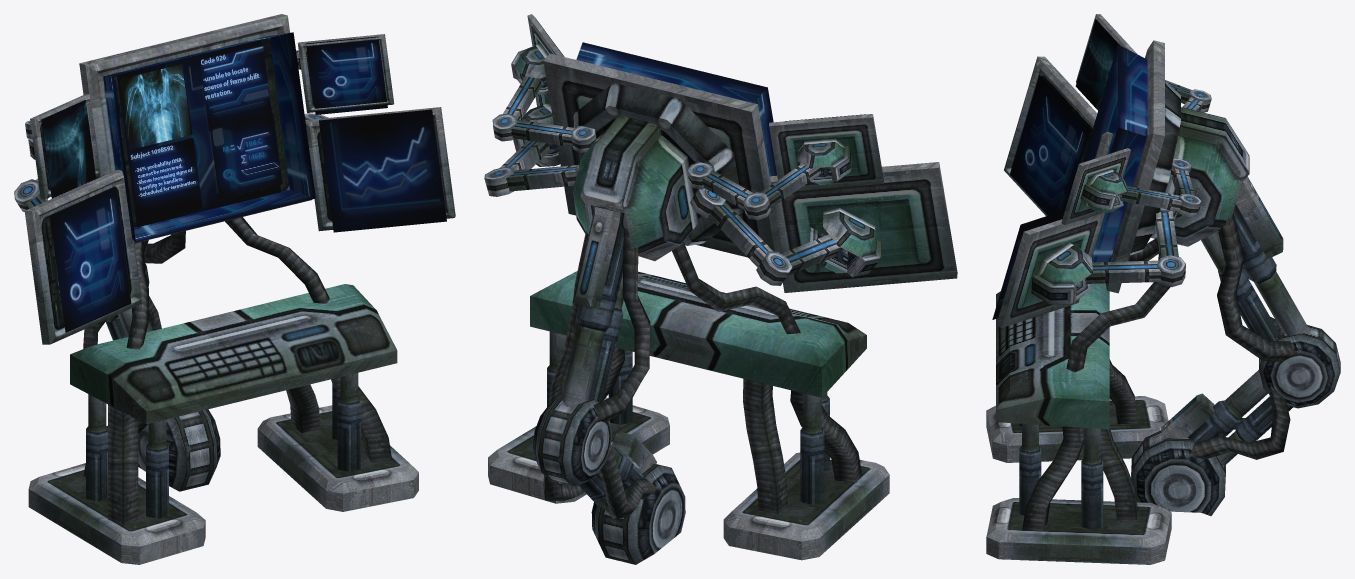
The model's file is castanarmonitorfloor_00.fbx.
The picture shows the model from 3 angles, left to right: view 1: azimuth 30°, elevation 25°; view 2: azimuth 150°, elevation 25°; view 3: azimuth 270°, elevation 25°; orthographic projection. The views are drawn at different scales.
Parts seen in each view (by area): view 1: Geoset_1, Geoset_0; view 2: Geoset_1, Geoset_0; view 3: Geoset_1, Geoset_0.
Part boxes in pixels (box(x1,y1,x2,y2)): Geoset_1: box(14, 14, 455, 564); Geoset_0: box(41, 32, 446, 332); Geoset_1: box(484, 14, 957, 564); Geoset_0: box(535, 18, 865, 176); Geoset_1: box(986, 14, 1340, 564); Geoset_0: box(992, 19, 1147, 319).
Bounding box in the file's own units: 2.03 × 2.12 × 1.61.
Materials: 2 (2 with a texture image).
